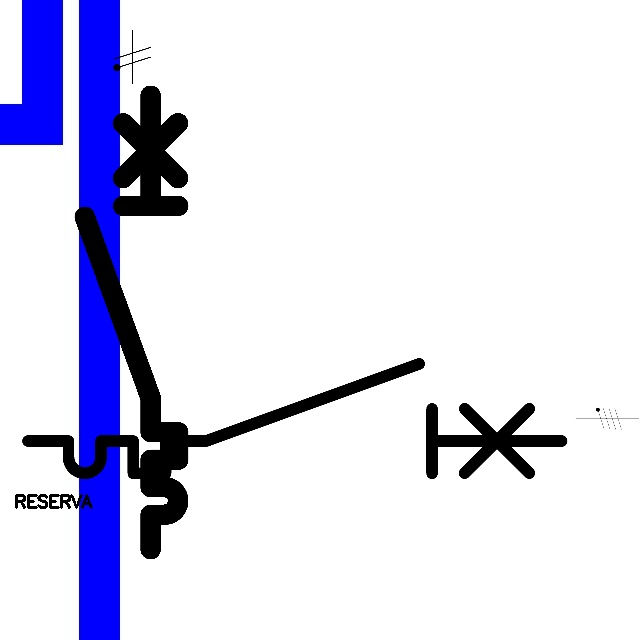interruptor_termomagnetico: (14, 350, 576, 487), (73, 83, 190, 560)
